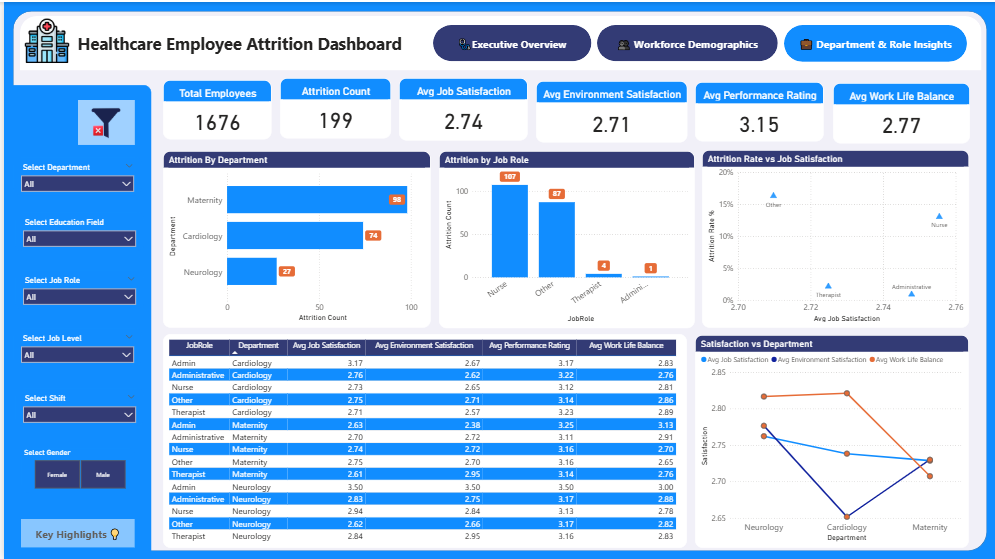

Layout of this report page (visuals, bound fields, positions):
{"tool":"powerbi","page":{"name":"Department & Role Insights","canvas":[1920,1080],"ordinal":2},"visuals":[{"type":"shape","box":[17.5,17.5,1885,1045],"z":0},{"type":"shape","box":[30,27.1,1861.4,105.7],"z":1000},{"type":"shape","box":[0,160,285,920],"z":2000},{"type":"card","title":"Total Employees","fields":{"Values":["Fact_EmployeeAttrition.Total Employees"]},"box":[307.3,150.2,210.4,114.9],"z":3000},{"type":"card","title":"Attrition Count","fields":{"Values":["Fact_EmployeeAttrition.Attrition Count"]},"box":[535,148,214.7,117.1],"z":4000},{"type":"card","title":"Avg Job Satisfaction","fields":{"Values":["Dim_Employee.Avg Job Satisfaction"]},"box":[764.9,148,249.4,121.4],"z":5000},{"type":"card","title":"Avg Environment Satisfaction","fields":{"Values":["Dim_Employee.Avg Environment Satisfaction"]},"box":[1029.5,152.3,292.8,119.3],"z":6000},{"type":"clusteredBarChart","title":"Attrition By Department","fields":{"Category":["Dim_Employee.Department"],"Y":["Fact_EmployeeAttrition.Attrition Count"]},"box":[307,287.5,518,342],"z":7000},{"type":"columnChart","title":"Attrition by Job Role","fields":{"Category":["Dim_Employee.JobRole"],"Y":["Fact_EmployeeAttrition.Attrition Count"]},"box":[842.5,287.5,495,342.5],"z":8000},{"type":"slicer","fields":{"Values":["Dim_Employee.Department"]},"box":[18.3,300,250,75],"z":9000},{"type":"slicer","fields":{"Values":["Dim_Employee.JobRole"]},"box":[22,518,250,76],"z":10000},{"type":"slicer","fields":{"Values":["Dim_Education.EducationField"]},"box":[22,406,250,76],"z":11000},{"type":"actionButton","title":"Key Highlights 💡","box":[32.5,1000,220,55],"z":13000},{"type":"scatterChart","title":"Attrition Rate vs Job Satisfaction","fields":{"Category":["Dim_Employee.JobRole"],"Y":["Fact_EmployeeAttrition.Attrition Rate %"],"X":["Dim_Employee.Avg Job Satisfaction"]},"box":[1351.4,287.1,517.1,344.3],"z":14000},{"type":"lineChart","title":"Satisfaction vs Department","fields":{"Y":["Dim_Employee.Avg Job Satisfaction","Dim_Employee.Avg Environment Satisfaction","Dim_Employee.Avg Work Life Balance"],"Category":["Dim_Employee.Department"]},"box":[1338,644,530,412],"z":15000},{"type":"slicer","fields":{"Values":["Dim_Employee.JoblevelLabel"]},"box":[18,630,250,74],"z":16000},{"type":"slicer","title":"Select Gender","fields":{"Values":["Dim_Employee.Gender"]},"box":[32,864,222,86],"z":17000},{"type":"tableEx","title":"Employees By Department","fields":{"Values":["Dim_Employee.JobRole","Dim_Employee.Department","Dim_Employee.Avg Job Satisfaction","Dim_Employee.Avg Environment Satisfaction","Dim_Employee.Avg Performance Rating","Dim_Employee.Avg Work Life Balance"]},"box":[308,642,1014,414],"z":18000},{"type":"image","box":[143.3,190,110,86.7],"z":21000},{"type":"card","title":"Avg Performance Rating","fields":{"Values":["Dim_Employee.Avg Performance Rating"]},"box":[1337.4,154.5,249.4,114.9],"z":22000},{"type":"card","title":"Avg Work Life Balance","fields":{"Values":["Dim_Employee.Avg Work Life Balance"]},"box":[1604.2,156.7,264.6,117.1],"z":23000},{"type":"slicer","fields":{"Values":["Dim_Employee.ShiftLabel"]},"box":[22,748,250,74],"z":24000},{"type":"textbox","box":[137.5,52.5,740,55],"z":26000},{"type":"actionButton","box":[830,45,306.7,70],"z":27000},{"type":"actionButton","box":[1148.3,45,350,70],"z":28000},{"type":"actionButton","box":[1510,44.3,354.3,71.4],"z":29000},{"type":"image","box":[22.9,27.1,120,95.7],"z":30000}]}

Visuals, with their boxes in screenshot pixels (x1, y1, x2, y2), scaled from the page's 1920x1080 canvas onto the 995x559 screenshot:
shape: select_region(9, 9, 986, 550)
shape: select_region(16, 14, 980, 69)
shape: select_region(0, 83, 148, 558)
"Total Employees" card: select_region(159, 78, 268, 137)
"Attrition Count" card: select_region(277, 77, 389, 137)
"Avg Job Satisfaction" card: select_region(396, 77, 526, 139)
"Avg Environment Satisfaction" card: select_region(534, 79, 685, 141)
"Attrition By Department" clusteredBarChart: select_region(159, 149, 428, 326)
"Attrition by Job Role" columnChart: select_region(437, 149, 693, 326)
slicer - Dim_Employee.Department: select_region(9, 155, 139, 194)
slicer - Dim_Employee.JobRole: select_region(11, 268, 141, 307)
slicer - Dim_Education.EducationField: select_region(11, 210, 141, 249)
"Key Highlights 💡" actionButton: select_region(17, 518, 131, 546)
"Attrition Rate vs Job Satisfaction" scatterChart: select_region(700, 149, 968, 327)
"Satisfaction vs Department" lineChart: select_region(693, 333, 968, 547)
slicer - Dim_Employee.JoblevelLabel: select_region(9, 326, 139, 364)
"Select Gender" slicer: select_region(17, 447, 132, 492)
"Employees By Department" tableEx: select_region(160, 332, 685, 547)
image: select_region(74, 98, 131, 143)
"Avg Performance Rating" card: select_region(693, 80, 822, 139)
"Avg Work Life Balance" card: select_region(831, 81, 968, 142)
slicer - Dim_Employee.ShiftLabel: select_region(11, 387, 141, 425)
textbox: select_region(71, 27, 455, 56)
actionButton: select_region(430, 23, 589, 60)
actionButton: select_region(595, 23, 776, 60)
actionButton: select_region(783, 23, 966, 60)
image: select_region(12, 14, 74, 64)
